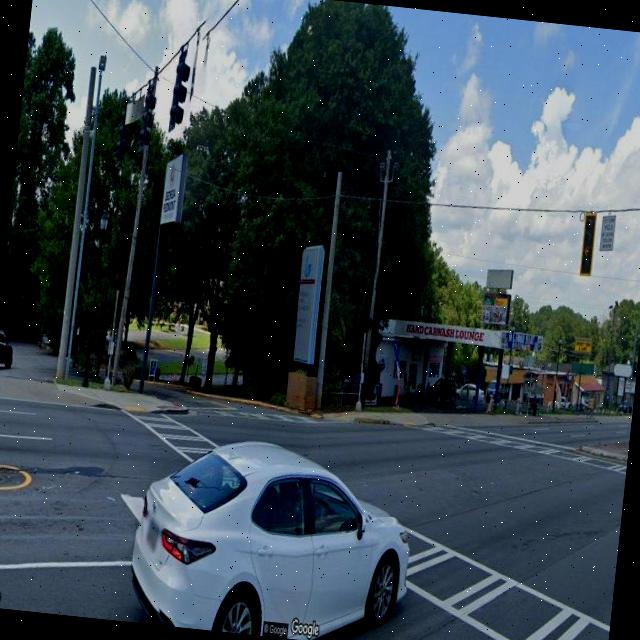seating: (528, 404, 540, 416)
shelter: (518, 368, 548, 417)
trash_can: (514, 402, 520, 414)
